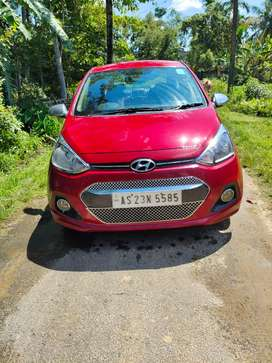AS23X5585: (112, 190, 181, 206)
